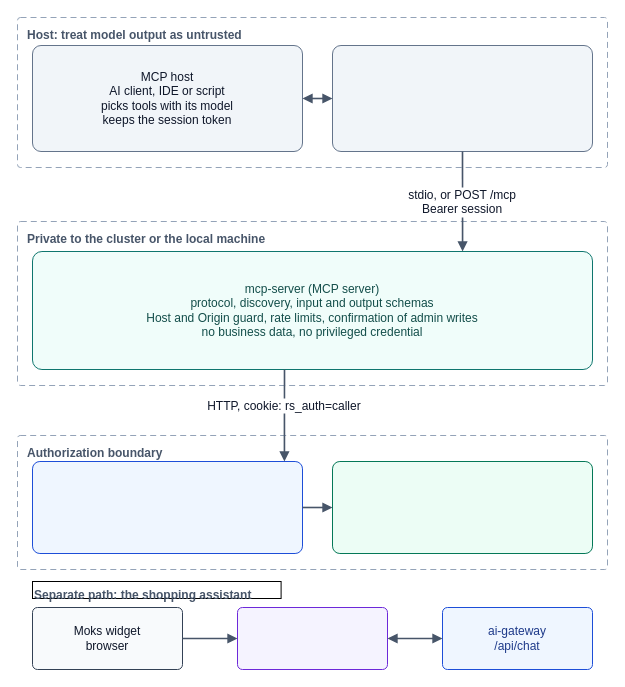
Image size: 625x687. Some labels were removed from this diagram. Here are the shapes that lost their labels. From the top down, the centre of each, then its label:
point 462,98: MCP client demo.py uses FastMCP Client discovers and calls tools
point 167,507: ai-gateway session, role, Origin ownership, stock, revisions
point 462,507: Domain services user, catalogue, cart shipping
point 312,638: moks no MCP client
